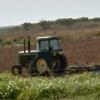Tractor: (8, 22, 74, 83)
